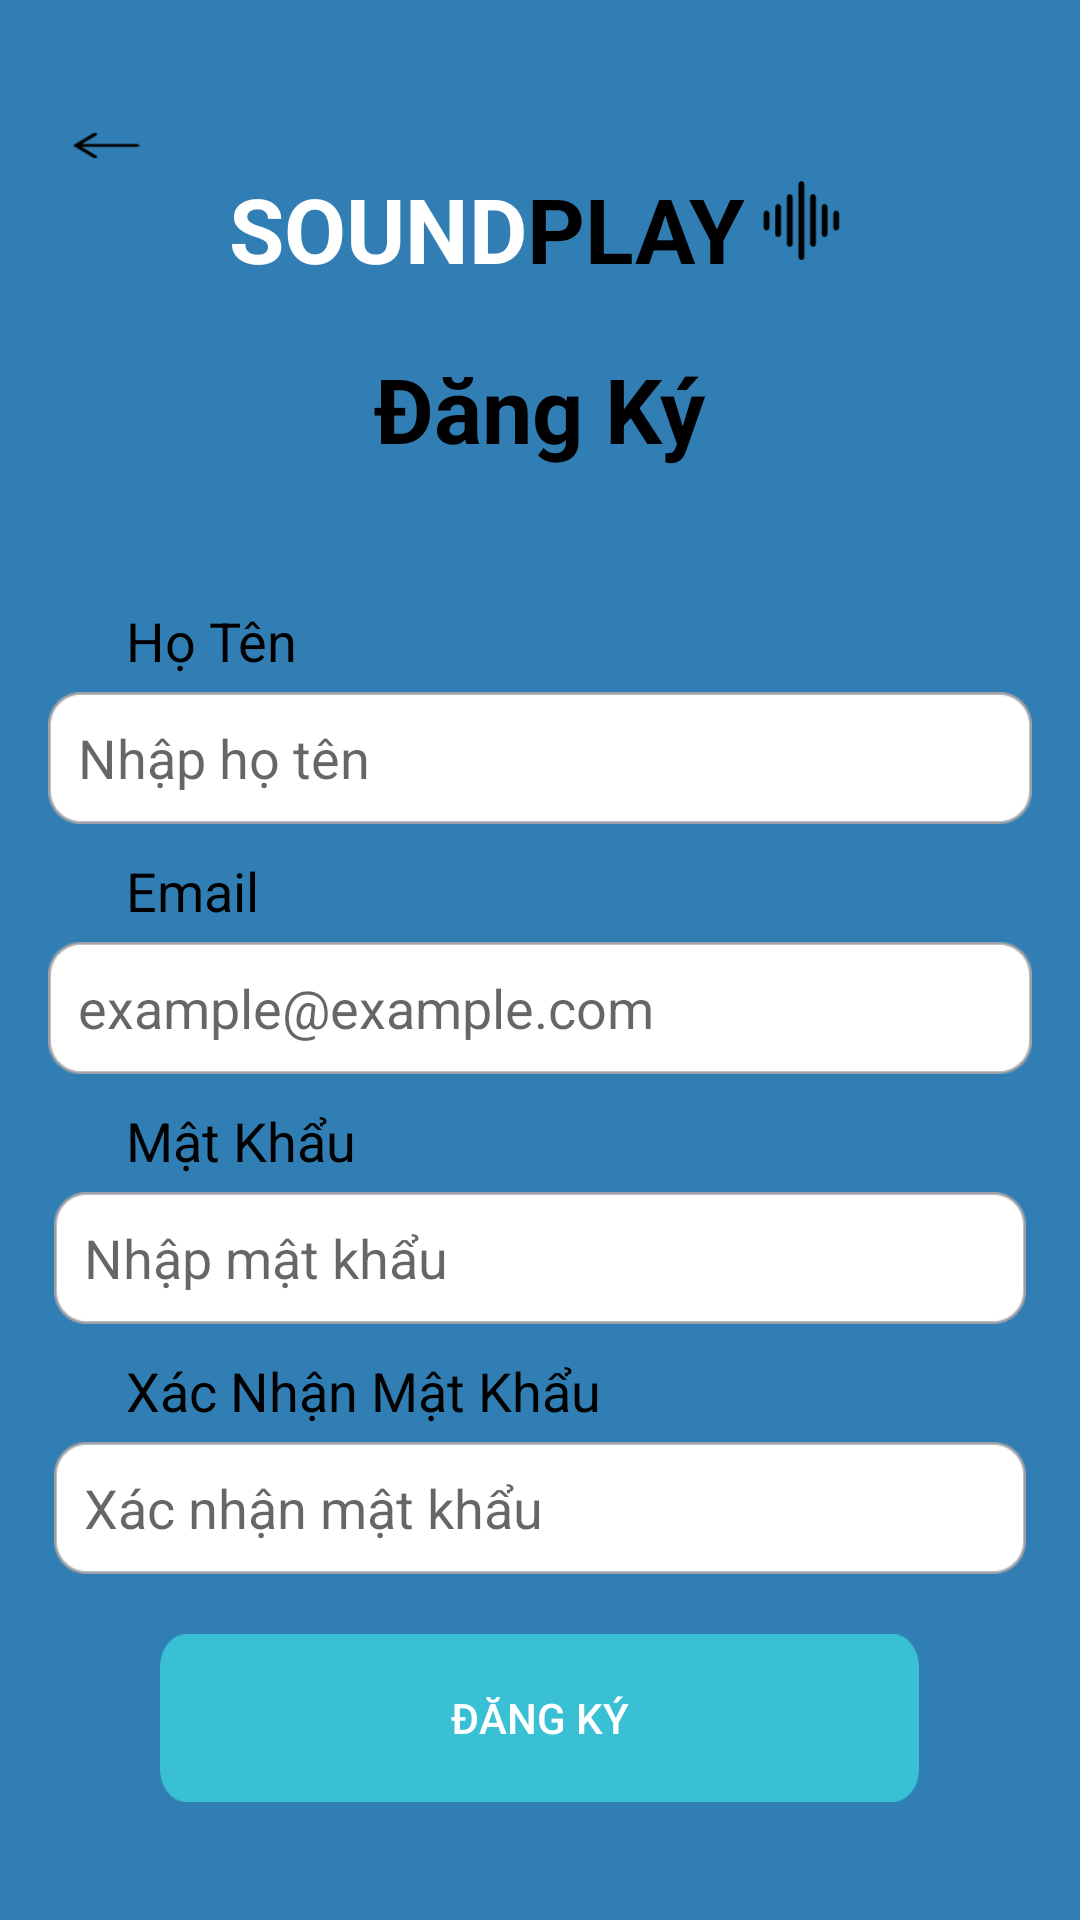

Icon click points for this 1080px x 1920px phone screenshot, format point (x, y):
back: point (106, 145)
music: point (801, 220)
